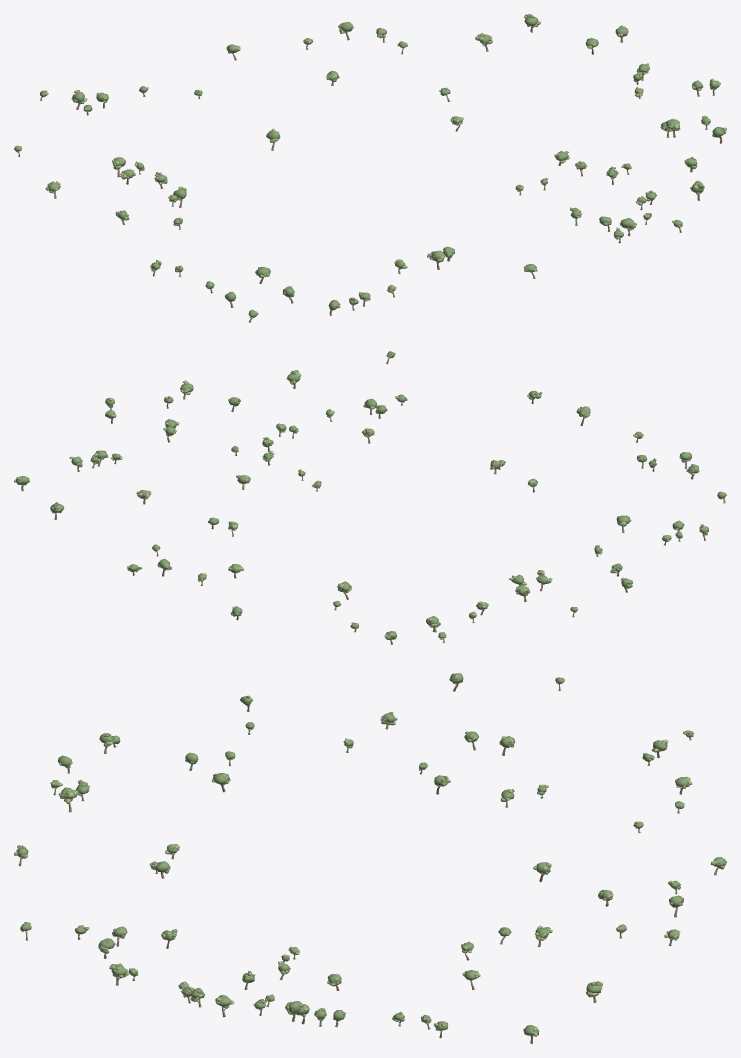
The model's file is treeline.glb.
The picture shows the model from 3 angles, top to bottom: view 1: azimuth 30°, elevation 25°; view 2: azimuth 150°, elevation 25°; view 3: azimuth 270°, elevation 25°; orthographic projection. The views are drawn at different scales.
Visible parts, largest first — view 1: treeline; view 2: treeline; view 3: treeline.
Part boxes in pixels (x1,y1,x2,y2): treeline: (14, 14, 726, 322); treeline: (14, 351, 726, 644); treeline: (14, 673, 726, 1043).
Bounding box in the file's own units: 445 × 43.79 × 391.
